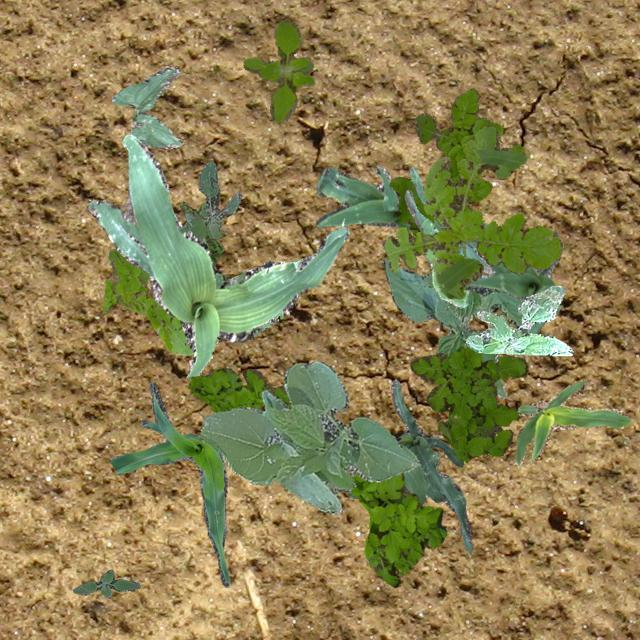crop: (88, 134, 348, 376), (200, 359, 418, 514), (381, 216, 524, 398), (408, 165, 560, 332), (108, 380, 230, 586), (346, 378, 471, 552), (403, 188, 492, 306), (512, 378, 630, 466), (315, 164, 409, 228), (110, 66, 182, 148)
weed: (188, 366, 446, 586), (380, 125, 562, 298), (388, 88, 502, 234), (409, 344, 526, 462), (101, 248, 192, 354), (464, 284, 572, 354), (242, 18, 314, 122), (183, 160, 240, 238), (180, 200, 226, 264), (72, 568, 140, 596)
